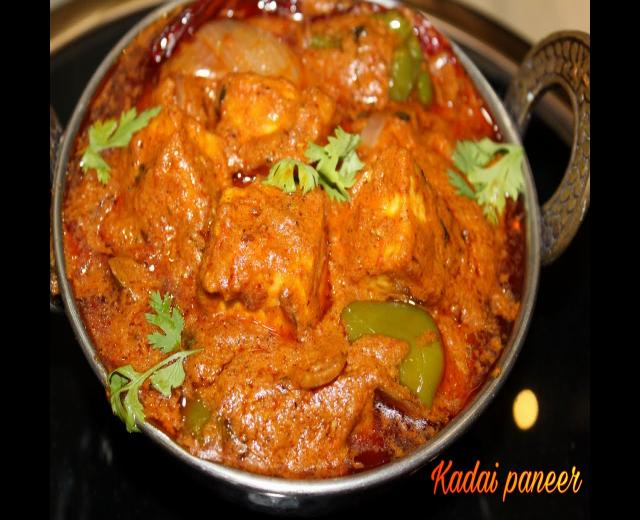kadai paneer: (52, 0, 532, 480)
